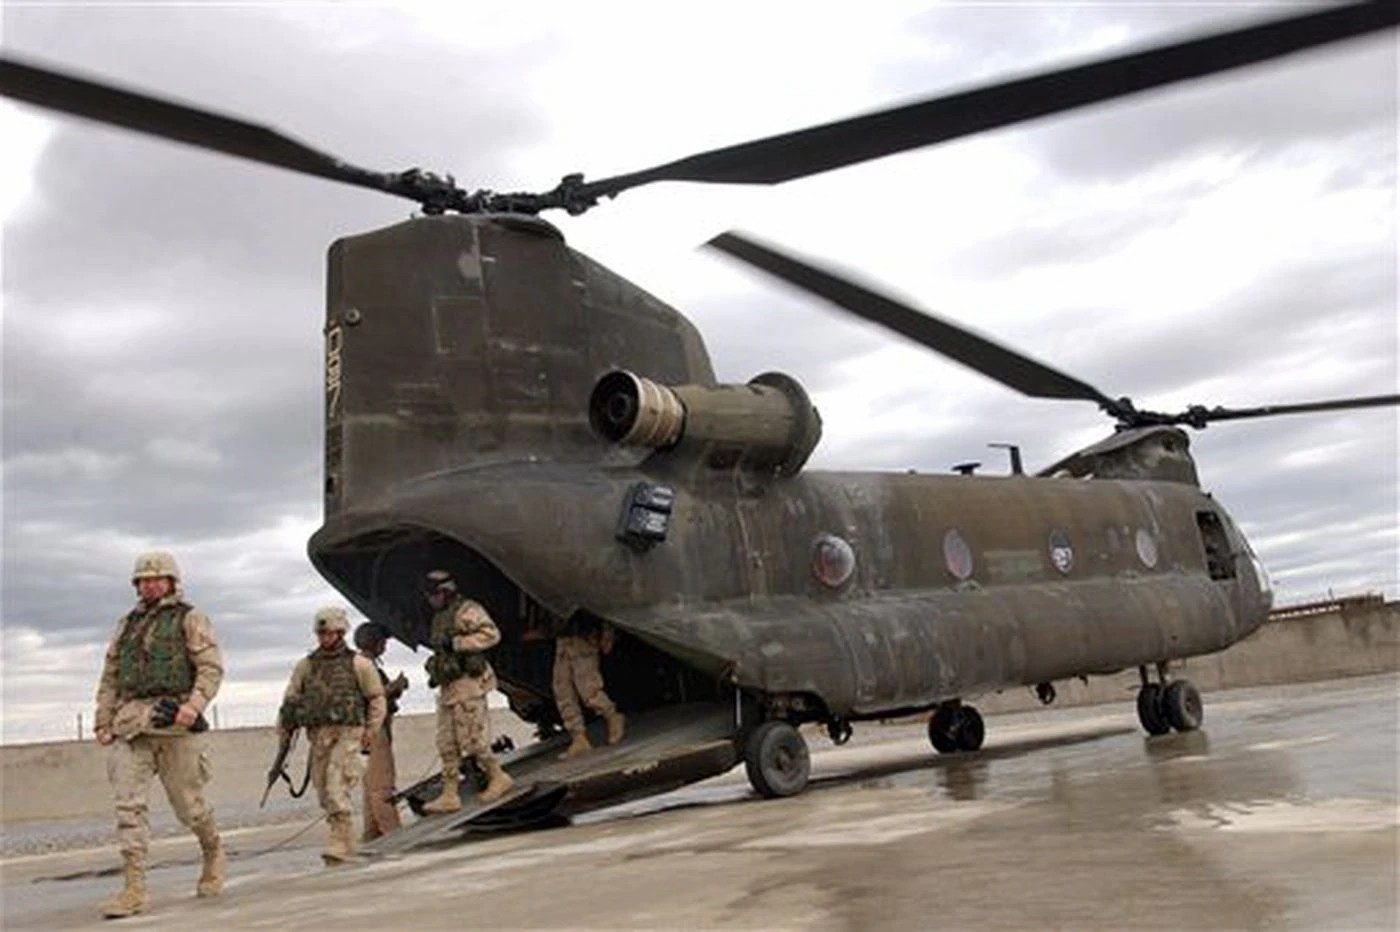chinook: (212, 167, 1278, 806)
